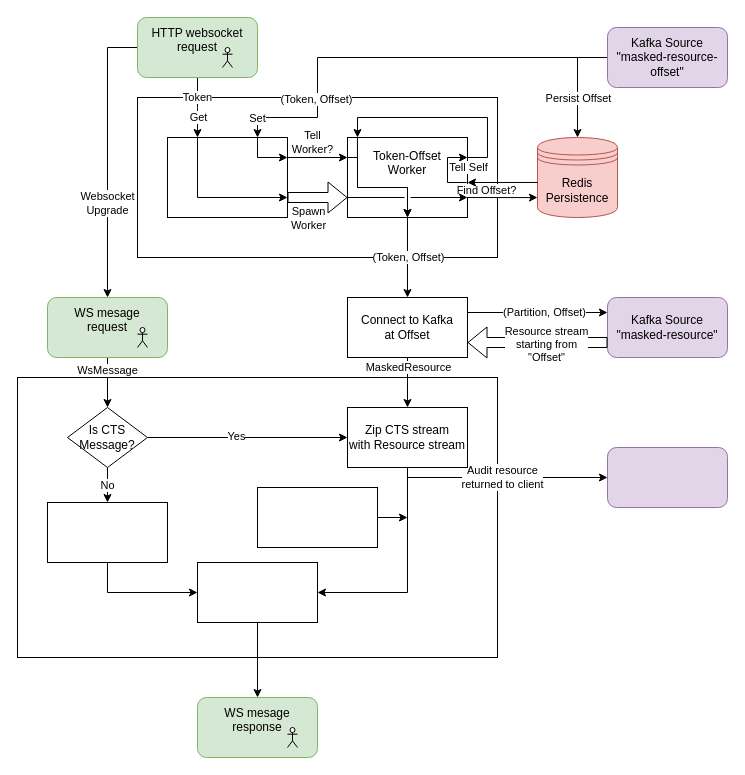
The diagram is 745 pixels wide and 775 high, and some of its shapes have lost their labels. Each missing label, with the box of its shape:
Concatenate with COMPLETE message: (256, 486, 378, 548)
Kafka Sink "audit-success": (606, 446, 728, 508)
Merge streams Reply to Client: (196, 562, 318, 622)
Process message (PING, ACK...): (46, 502, 168, 562)
Token-Offset Actor System: (166, 136, 288, 218)
